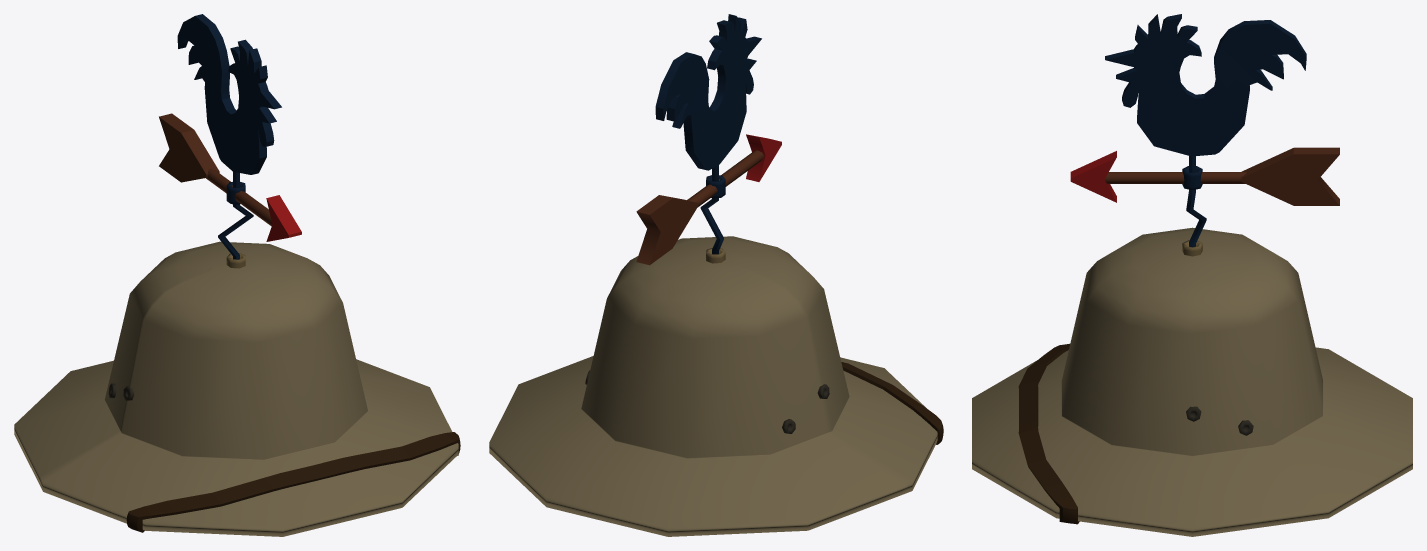
The model's file is ExplorersHat.fbx.
3 renders of one model, left to right at view 1: azimuth 30°, elevation 25°; view 2: azimuth 150°, elevation 25°; view 3: azimuth 270°, elevation 25°, orthographic. The views are drawn at different scales.
Parts seen in each view (by area): view 1: polySurface15; view 2: polySurface15; view 3: polySurface15.
Part boxes in pixels (<box>): polySurface15: <box>14,14,460,536</box>; polySurface15: <box>489,14,943,536</box>; polySurface15: <box>972,14,1412,536</box>.
Size of the model in its own units: 49.58 by 50.3 by 47.15.
